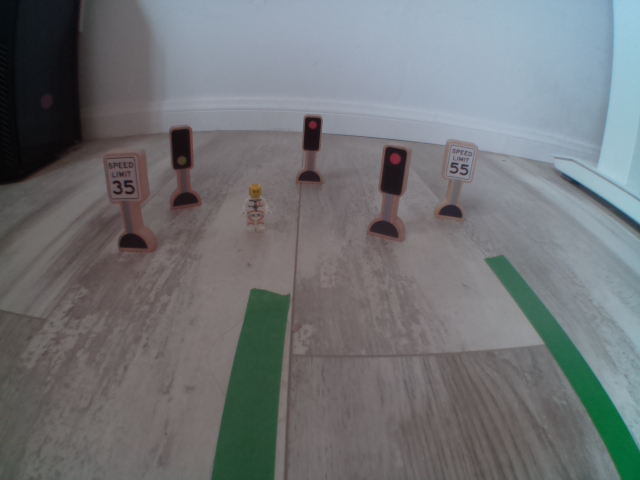Green Traffic Light: (169, 126, 194, 171)
Red Traffic Light: (379, 145, 409, 196), (301, 113, 325, 153)
Speed Limit 35: (102, 152, 145, 204)
Speed Limit 55: (445, 138, 476, 184)
person: (240, 184, 273, 234)
